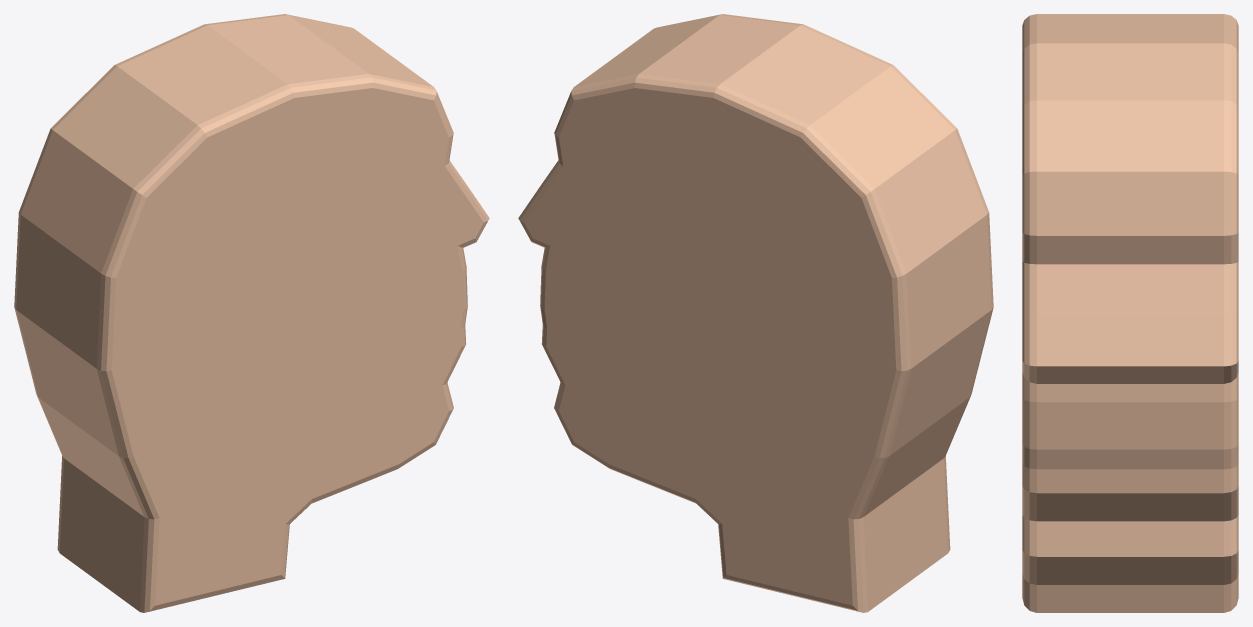
The model's file is sample-morphs.glb.
3 renders of one model, left to right at view 1: azimuth 30°, elevation 25°; view 2: azimuth 150°, elevation 25°; view 3: azimuth 270°, elevation 25°, orthographic. The views are drawn at different scales.
Visible parts, largest first — view 1: skin; view 2: skin; view 3: skin.
Part boxes in pixels (x1,y1,x2,y2): skin: [14, 14, 489, 612]; skin: [518, 14, 993, 612]; skin: [1022, 14, 1238, 612].
Size of the model in its own units: 8.99 by 10.8 by 3.7.
